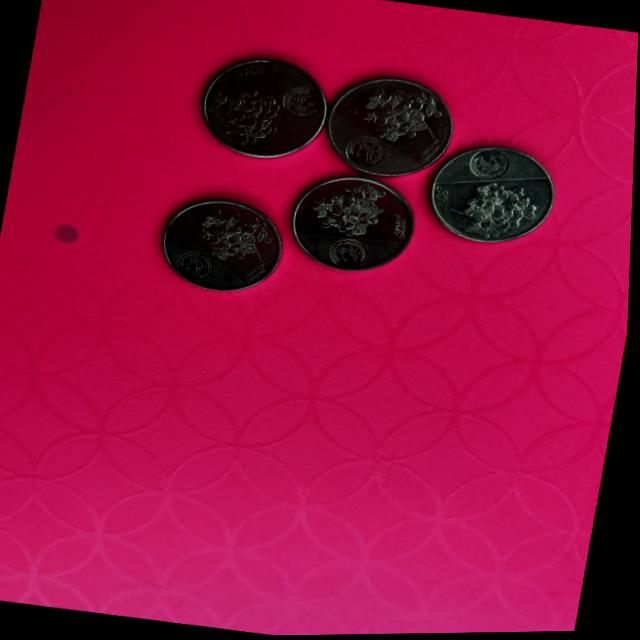1_New_Back: (342, 76, 451, 152), (304, 179, 400, 247), (204, 75, 286, 153), (184, 200, 275, 269), (455, 177, 536, 245)
